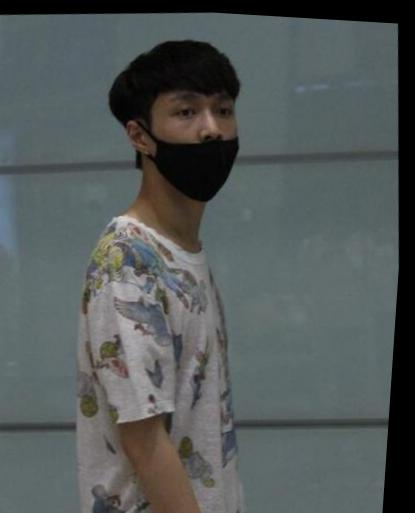WRONG: (145, 81, 250, 197)
